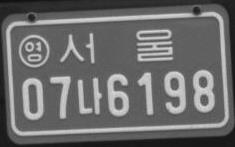0: (21, 76, 44, 120)
1: (136, 71, 160, 116)
6: (106, 72, 130, 117)
7: (48, 75, 72, 119)
8: (192, 69, 216, 114)
9: (163, 70, 187, 115)
나: (76, 76, 102, 115)
서울_D: (58, 28, 174, 64)
영: (17, 33, 50, 68)
